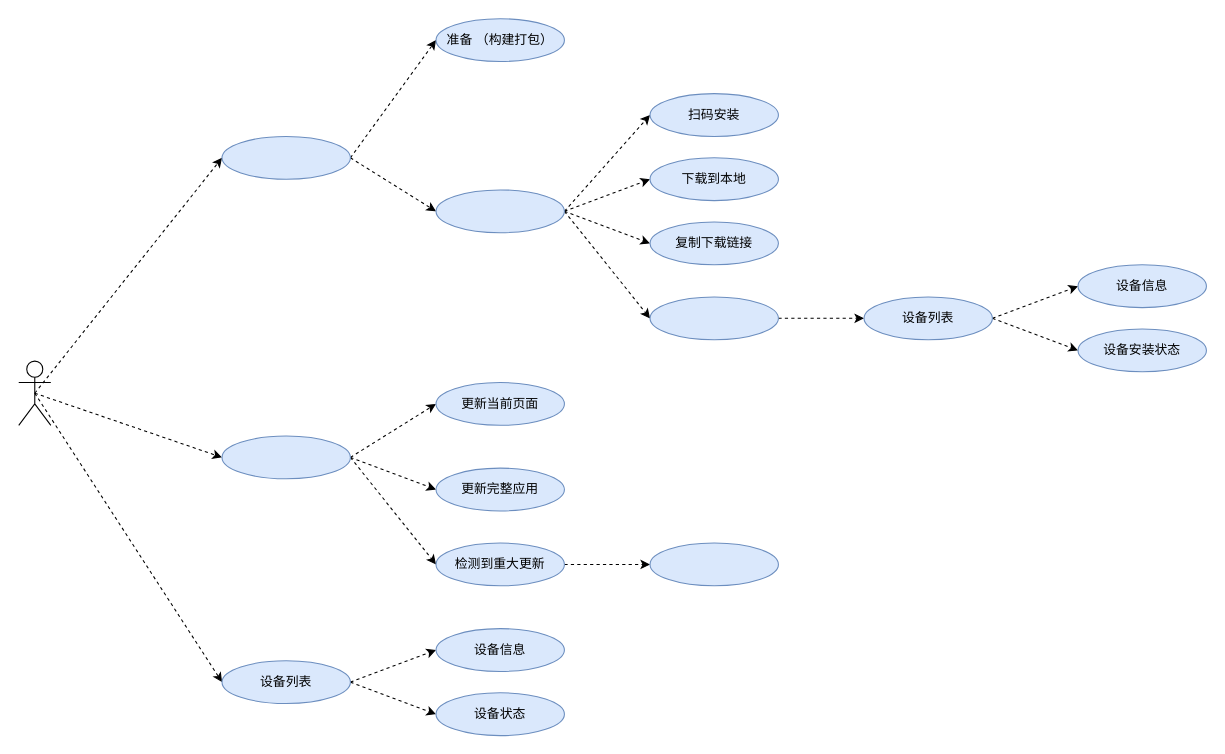
The diagram is 1225 pixels wide and 754 high, and some of its shapes have lost their labels. The centre of each missing label's shape, as x and y in pixels:
Actor: point 34,392
下载到指定设备: point 713,318
变更同步: point 285,457
安装: point 499,211
连接设备: point 285,157
重新安装应用: point 713,564
